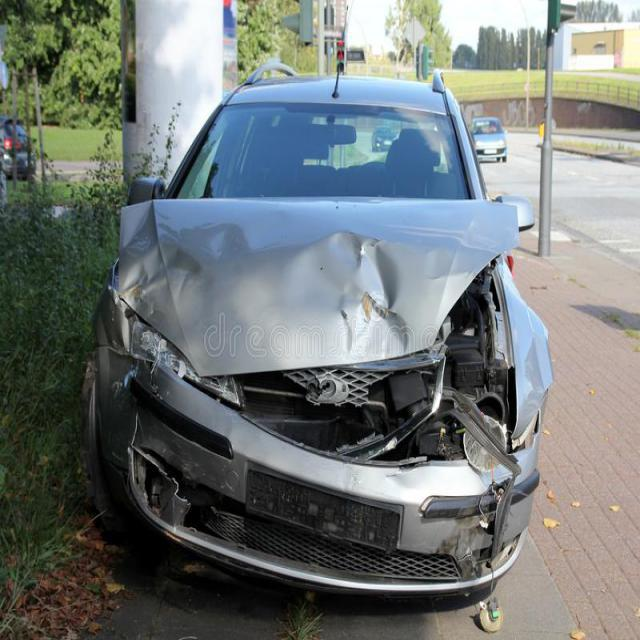bonnet-dent: (128, 196, 515, 396)
front-bumper-dent: (91, 377, 312, 573), (312, 448, 555, 604)
